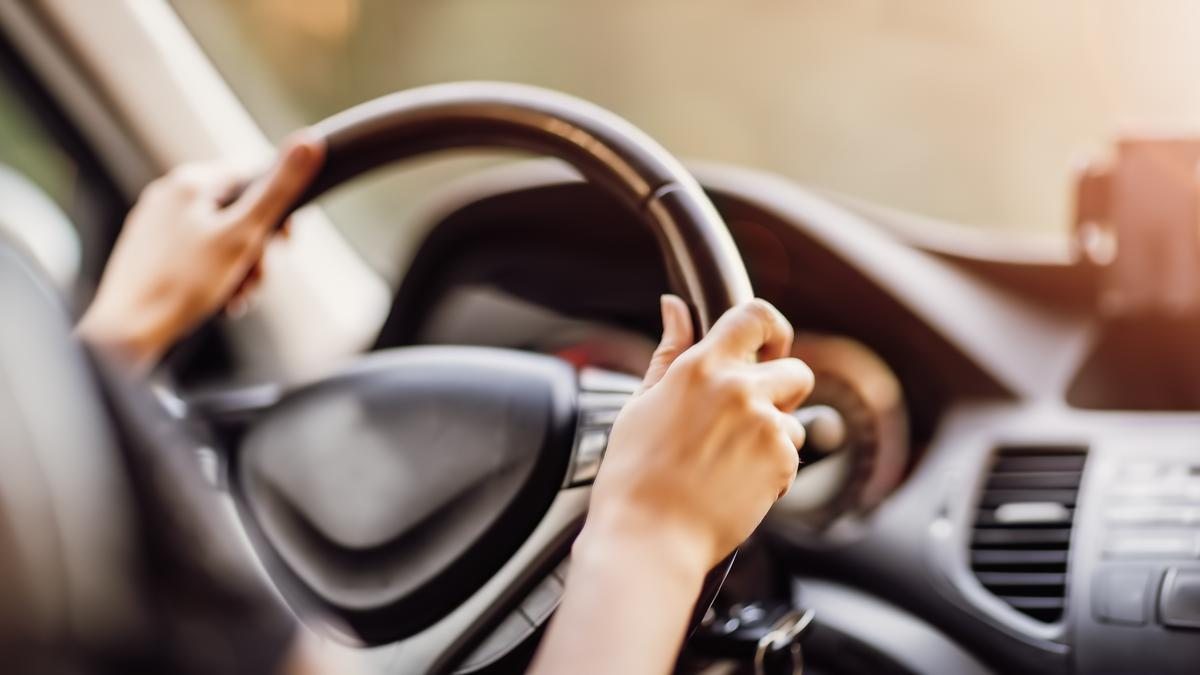Driving: (23, 35, 1200, 654)
